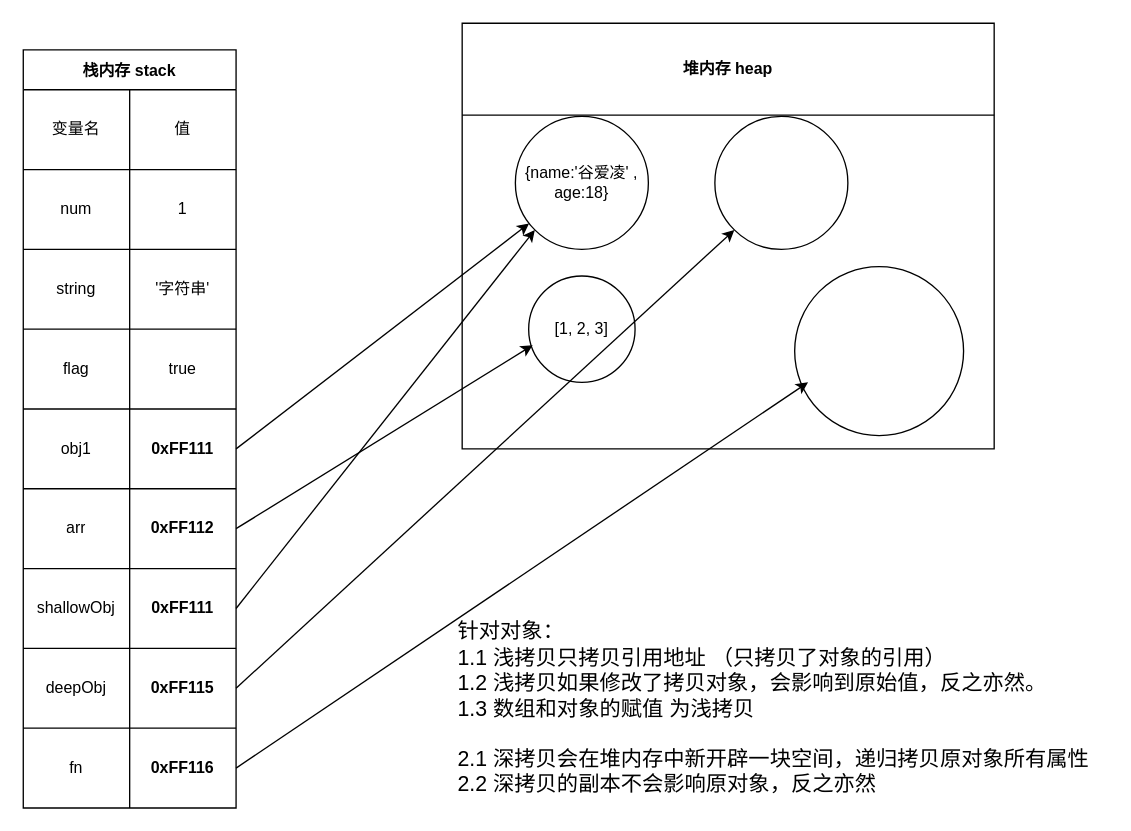
Some shapes in this 1131 by 831 pixel diagram are drawn without their labels. Each missing label, with the box of its shape:
function(){ console.log(1) }: (793, 265, 964, 436)
{name:'谷爱凌' , age:20}: (714, 115, 848, 249)
